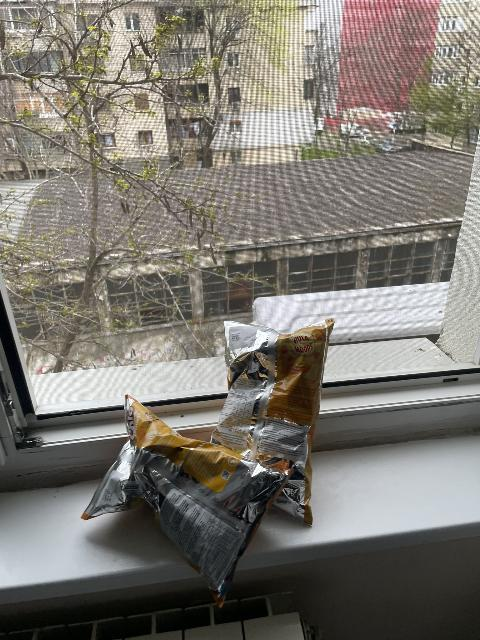Chio Cascaval 125g: (84, 392, 293, 608)
Chio Hula Hoops Cheese 70g: (210, 316, 335, 527)
